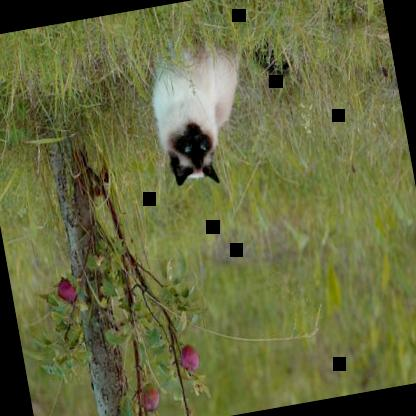cat: (142, 29, 304, 193)
